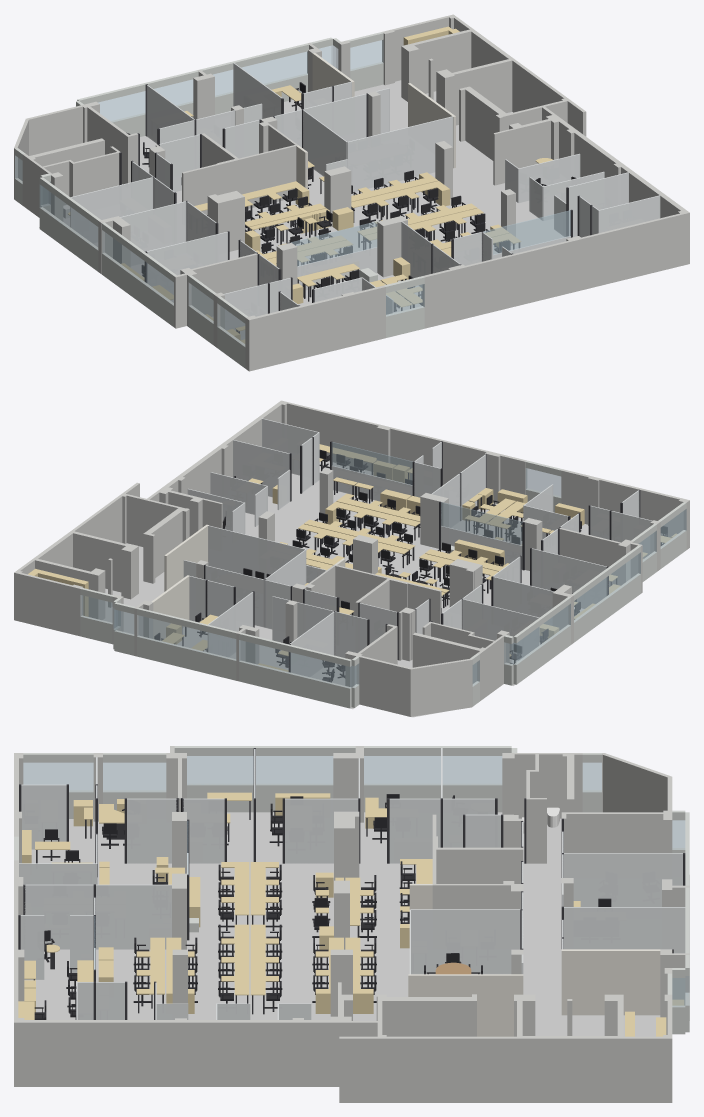
The model's file is 13-furniture.glb.
3 renders of one model, top to bottom at view 1: azimuth 30°, elevation 25°; view 2: azimuth 150°, elevation 25°; view 3: azimuth 270°, elevation 25°, orthographic. The views are drawn at different scales.
Visible parts, largest first — view 1: Floor4_13-furniture_concrete_Blocking, Floor4_13-furniture_frosted_Blocking, Floor4_13-furniture_glass_Blocking, Floor4_13-furniture_wall_Blocking, Floor4_13-furniture_melamine_Decor, Floor4_13-furniture_Floor, Floor4_13-furniture_partition_Blocking, Floor4_13-furniture_aluminum_Blocking, Floor4_13-furniture_aluminum_Decor; view 2: Floor4_13-furniture_concrete_Blocking, Floor4_13-furniture_frosted_Blocking, Floor4_13-furniture_glass_Blocking, Floor4_13-furniture_wall_Blocking, Floor4_13-furniture_melamine_Decor, Floor4_13-furniture_Floor, Floor4_13-furniture_partition_Blocking, Floor4_13-furniture_aluminum_Blocking, Floor4_13-furniture_aluminum_Decor; view 3: Floor4_13-furniture_concrete_Blocking, Floor4_13-furniture_frosted_Blocking, Floor4_13-furniture_Floor, Floor4_13-furniture_melamine_Decor, Floor4_13-furniture_glass_Blocking, Floor4_13-furniture_wall_Blocking, Floor4_13-furniture_partition_Blocking, Floor4_13-furniture_aluminum_Blocking, Floor4_13-furniture_aluminum_Decor.
Part boxes in pixels (<box>): Floor4_13-furniture_concrete_Blocking: <box>14,14,689,371</box>; Floor4_13-furniture_frosted_Blocking: <box>70,63,660,339</box>; Floor4_13-furniture_glass_Blocking: <box>15,40,570,346</box>; Floor4_13-furniture_wall_Blocking: <box>15,32,424,368</box>; Floor4_13-furniture_melamine_Decor: <box>68,26,552,343</box>; Floor4_13-furniture_Floor: <box>39,80,563,317</box>; Floor4_13-furniture_partition_Blocking: <box>296,53,455,189</box>; Floor4_13-furniture_aluminum_Blocking: <box>119,84,592,313</box>; Floor4_13-furniture_aluminum_Decor: <box>191,97,519,333</box>; Floor4_13-furniture_concrete_Blocking: <box>14,400,689,716</box>; Floor4_13-furniture_frosted_Blocking: <box>183,418,652,676</box>; Floor4_13-furniture_glass_Blocking: <box>80,442,686,688</box>; Floor4_13-furniture_wall_Blocking: <box>80,460,686,708</box>; Floor4_13-furniture_melamine_Decor: <box>28,444,676,671</box>; Floor4_13-furniture_Floor: <box>103,461,662,717</box>; Floor4_13-furniture_partition_Blocking: <box>151,524,345,640</box>; Floor4_13-furniture_aluminum_Blocking: <box>204,437,640,672</box>; Floor4_13-furniture_aluminum_Decor: <box>182,460,616,667</box>; Floor4_13-furniture_concrete_Blocking: <box>14,746,689,1102</box>; Floor4_13-furniture_frosted_Blocking: <box>19,748,685,1019</box>; Floor4_13-furniture_Floor: <box>24,812,689,1036</box>; Floor4_13-furniture_melamine_Decor: <box>18,792,683,1036</box>; Floor4_13-furniture_glass_Blocking: <box>23,756,689,1007</box>; Floor4_13-furniture_wall_Blocking: <box>14,746,689,1034</box>; Floor4_13-furniture_partition_Blocking: <box>408,884,660,1036</box>; Floor4_13-furniture_aluminum_Blocking: <box>18,748,685,1019</box>; Floor4_13-furniture_aluminum_Decor: <box>33,801,470,1014</box>.
Bounding box in the file's own units: 23.41 × 2.4 × 22.85.
